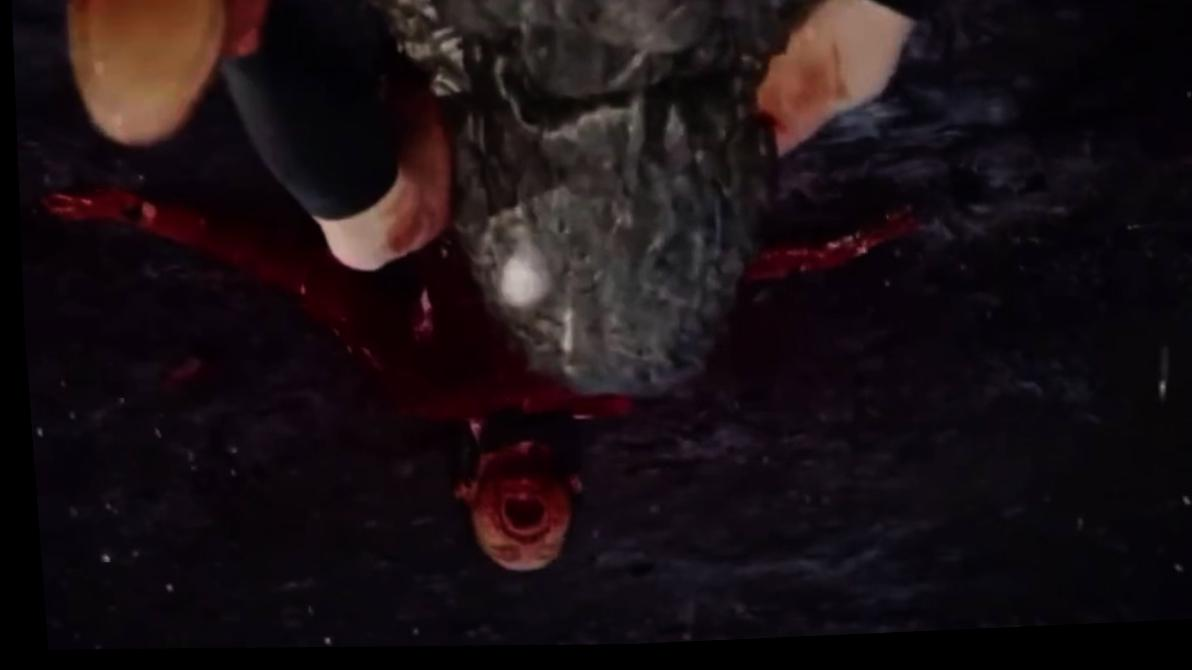Fire: (37, 190, 628, 576), (740, 218, 916, 288)
